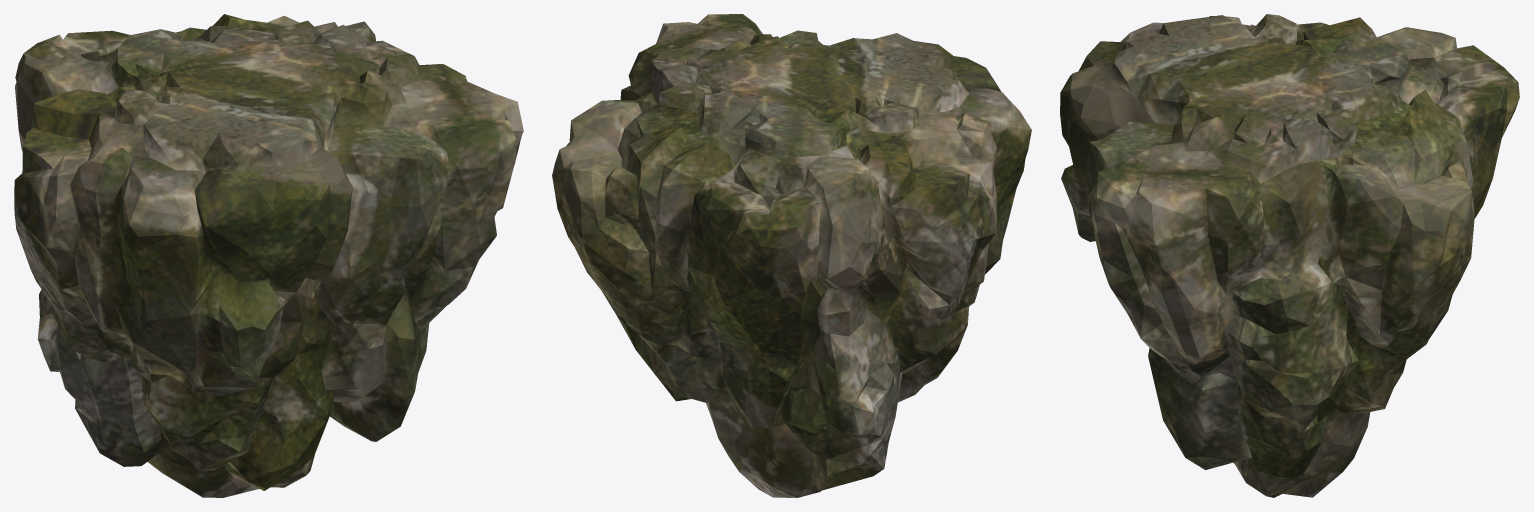
Rendered from bg_anh_gvalley_rkd03_01_sm_old.FBX.
3 views of the same model, side by side, from view 1: azimuth 30°, elevation 25°; view 2: azimuth 150°, elevation 25°; view 3: azimuth 270°, elevation 25° (orthographic). The views are drawn at different scales.
Visible parts, largest first — view 1: bg_anh_gvalley_rkd03_01_sm_old; view 2: bg_anh_gvalley_rkd03_01_sm_old; view 3: bg_anh_gvalley_rkd03_01_sm_old.
Boxes of the visible parts, box(x1,y1,x2,y2) form: bg_anh_gvalley_rkd03_01_sm_old: box(14, 14, 523, 497); bg_anh_gvalley_rkd03_01_sm_old: box(552, 14, 1031, 497); bg_anh_gvalley_rkd03_01_sm_old: box(1060, 14, 1519, 497).
Bounding box in the file's own units: 627 × 613 × 610.
